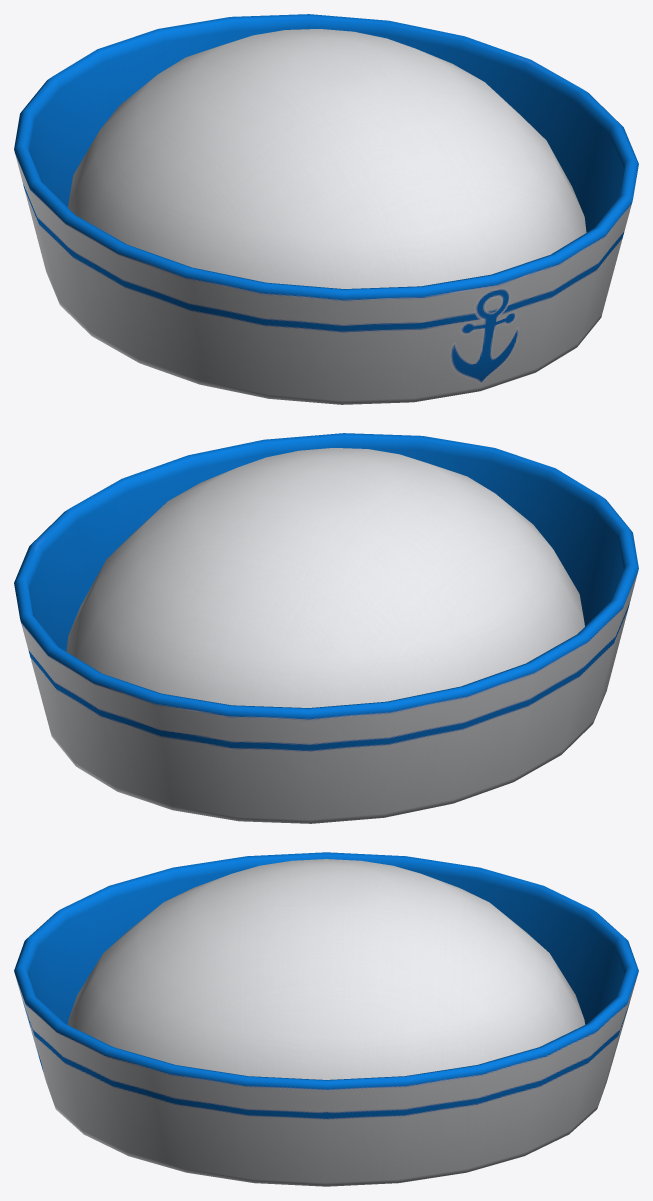
Rendered from SailorHat.FBX.
3 renders of one model, top to bottom at view 1: azimuth 30°, elevation 25°; view 2: azimuth 150°, elevation 25°; view 3: azimuth 270°, elevation 25°, orthographic. The views are drawn at different scales.
Parts seen in each view (by area): view 1: SailorHat; view 2: SailorHat; view 3: SailorHat.
Boxes of the visible parts, x1=… form: SailorHat: x1=14, y1=14, x2=638, y2=404; SailorHat: x1=14, y1=433, x2=638, y2=823; SailorHat: x1=14, y1=852, x2=638, y2=1186.
Size of the model in its own units: 38.55 by 15.42 by 43.66.
Materials: 1 (1 with a texture image).
